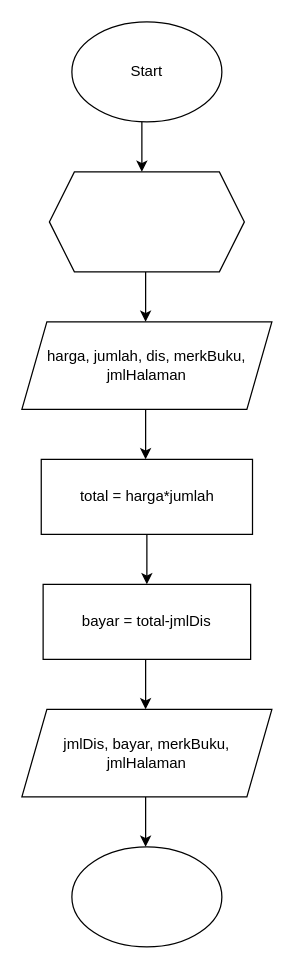
Image size: 294x969. Some labels were removed from this diagram. The centre of each missing label's shape, as x and y in pixels:
"End" goes at point 146,896.
"int harga, jumlah, jmlHalaman double dis, total, bayar, jmlDis String merkBuku" goes at point 146,221.
